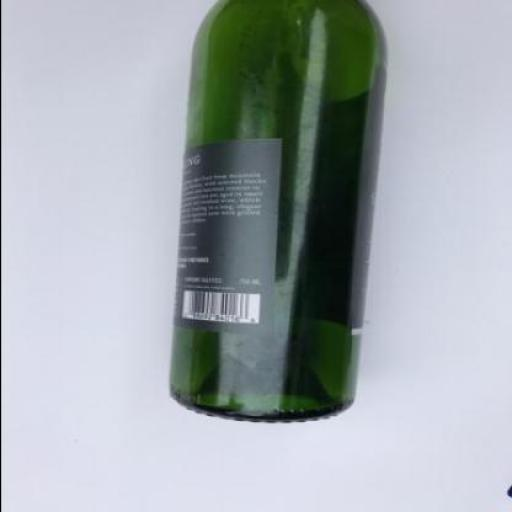glass: (165, 0, 385, 422)
